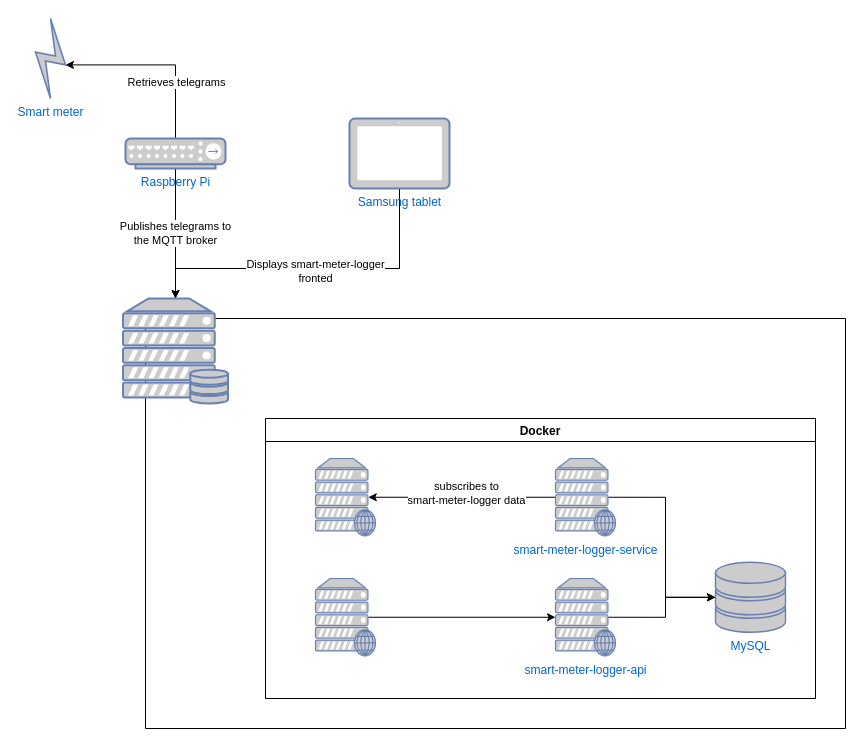
This 863x746 diagram has some shape labels left out. The shapes that lost their labels are listed below. From the top down, each one's centre as x and y in pixels, then its label:
[175,350]: Synology NAS
[345,496]: MQTT broker
[345,616]: smart-meter-logger-frontend
